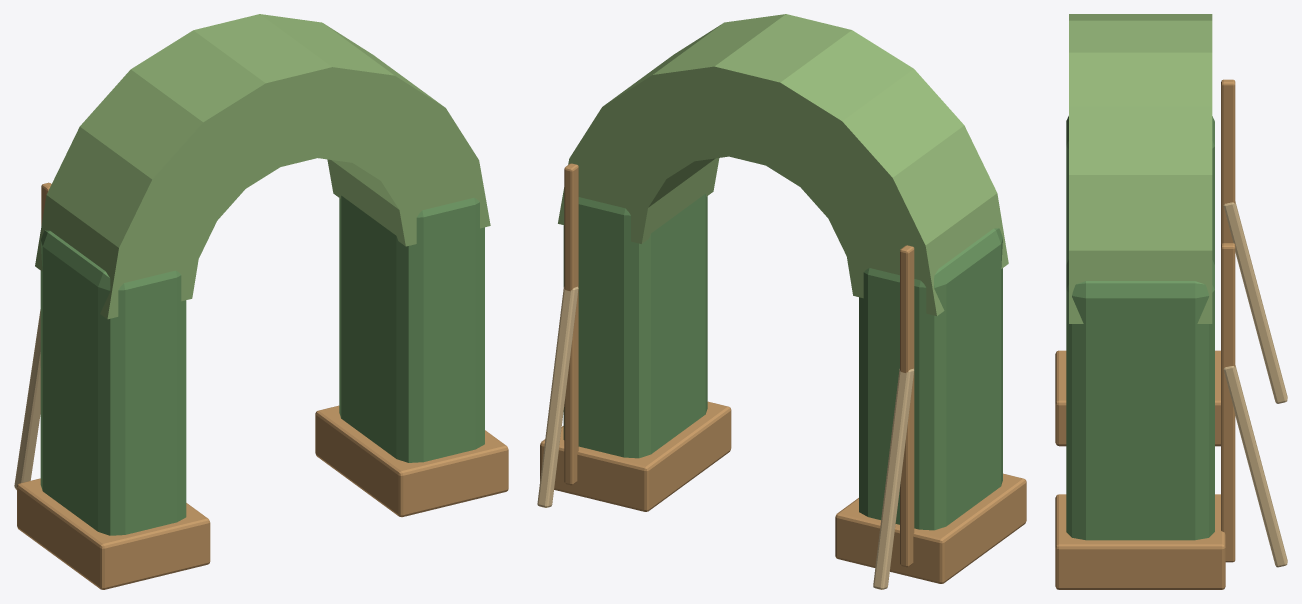
File: S069_hedge_arch.glb
3 views of the same model, side by side, from view 1: azimuth 30°, elevation 25°; view 2: azimuth 150°, elevation 25°; view 3: azimuth 270°, elevation 25° (orthographic).
Parts seen in each view (by area): view 1: hedge_trunk, hedge_trunk.001, hedge_arch_06, hedge_arch_07, hedge_arch_05, hedge_pot, hedge_pot.001, hedge_arch_04, hedge_arch_03, hedge_arch_08, hedge_arch_01, hedge_arch_02 (+2 smaller); view 2: hedge_trunk, hedge_trunk.001, hedge_arch_06, hedge_arch_07, hedge_arch_05, hedge_arch_04, hedge_pot, hedge_pot.001, hedge_arch_03, hedge_arch_01, hedge_arch_08, hedge_arch_02 (+5 smaller); view 3: hedge_trunk.001, hedge_arch_01, hedge_arch_02, hedge_pot.001, hedge_arch_03, hedge_arch_00, hedge_arch_04, rear_hedge_support.001, hedge_brace.001, hedge_brace, rear_hedge_support, hedge_pot (+2 smaller).
Boxes of the visible parts, <box> form: hedge_trunk: <box>40,230,186,535</box>; hedge_trunk.001: <box>339,195,484,462</box>; hedge_arch_06: <box>80,69,245,220</box>; hedge_arch_07: <box>46,127,216,258</box>; hedge_arch_05: <box>131,30,280,188</box>; hedge_pot: <box>17,478,210,589</box>; hedge_pot.001: <box>315,405,508,517</box>; hedge_arch_04: <box>193,14,332,166</box>; hedge_arch_03: <box>260,14,394,162</box>; hedge_arch_08: <box>35,195,198,319</box>; hedge_arch_01: <box>331,108,478,209</box>; hedge_arch_02: <box>325,24,445,180</box>; hedge_trunk: <box>859,228,1002,530</box>; hedge_trunk.001: <box>563,194,707,458</box>; hedge_arch_06: <box>800,69,964,218</box>; hedge_arch_07: <box>828,125,996,256</box>; hedge_arch_05: <box>766,30,913,186</box>; hedge_arch_04: <box>714,14,851,165</box>; hedge_pot: <box>835,473,1026,583</box>; hedge_pot.001: <box>540,401,731,511</box>; hedge_arch_03: <box>652,14,785,161</box>; hedge_arch_01: <box>569,107,715,207</box>; hedge_arch_08: <box>846,193,1008,315</box>; hedge_arch_02: <box>602,23,722,178</box>; hedge_trunk.001: <box>1066,259,1214,540</box>; hedge_arch_01: <box>1069,175,1212,250</box>; hedge_arch_02: <box>1069,106,1212,174</box>; hedge_pot.001: <box>1055,494,1225,589</box>; hedge_arch_03: <box>1069,52,1212,106</box>; hedge_arch_00: <box>1069,250,1212,323</box>; hedge_arch_04: <box>1069,20,1212,52</box>; rear_hedge_support.001: <box>1221,243,1235,562</box>; hedge_brace.001: <box>1223,365,1287,567</box>; hedge_brace: <box>1223,201,1287,403</box>; rear_hedge_support: <box>1221,79,1235,244</box>; hedge_pot: <box>1055,350,1220,446</box>.
Bounding box in the file's own units: 2.6 × 2.81 × 1.3.
